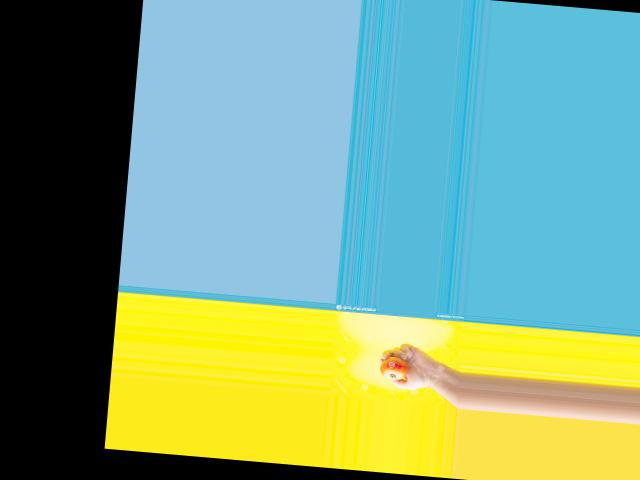tomato: (380, 355, 409, 380)
